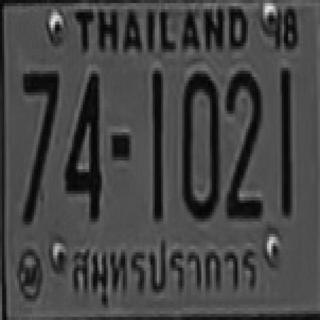N00: (180, 69, 218, 217)
N01: (280, 68, 290, 206), (152, 69, 162, 205)
N02: (224, 69, 262, 217), (225, 69, 261, 208)
N04: (64, 69, 100, 217)
N07: (21, 68, 57, 218), (21, 68, 57, 172)
P57: (65, 235, 259, 309)
